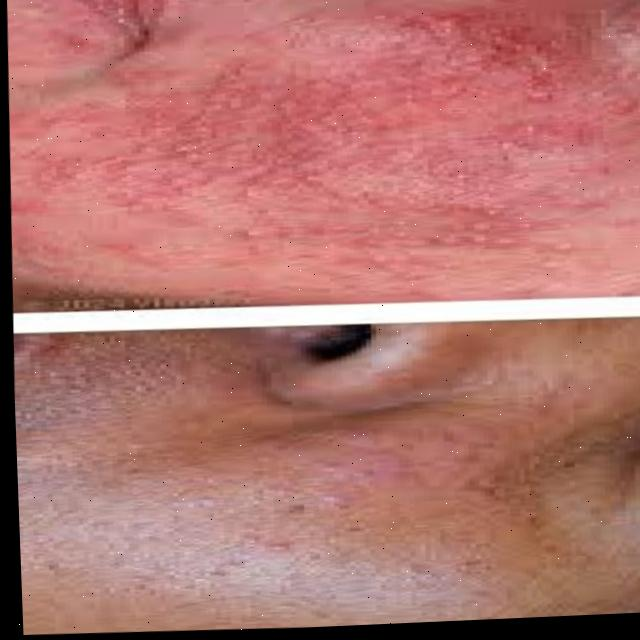Rosacea: (39, 0, 640, 271), (271, 389, 504, 518)
